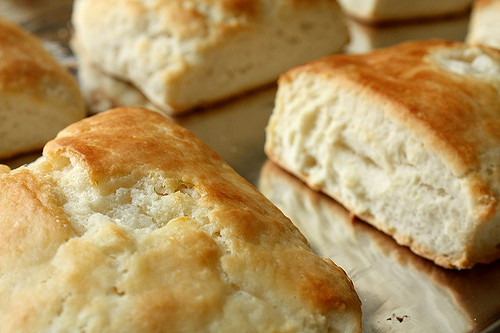slice of bread: (281, 72, 491, 283)
